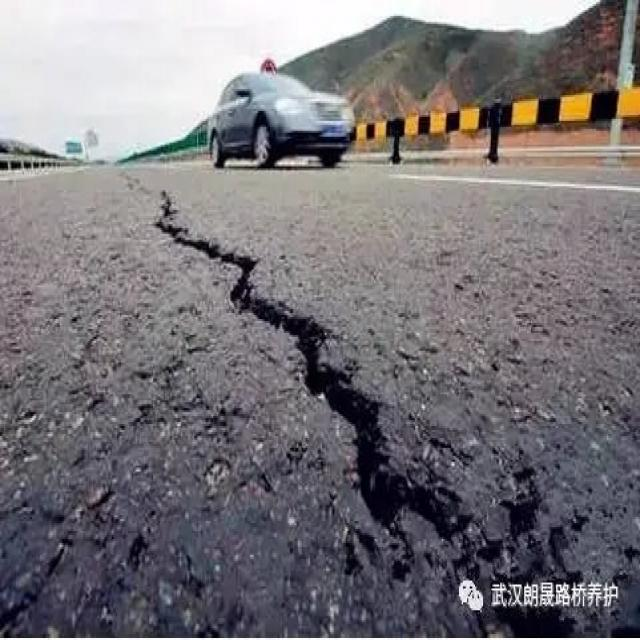Pothole: (142, 188, 608, 632)
